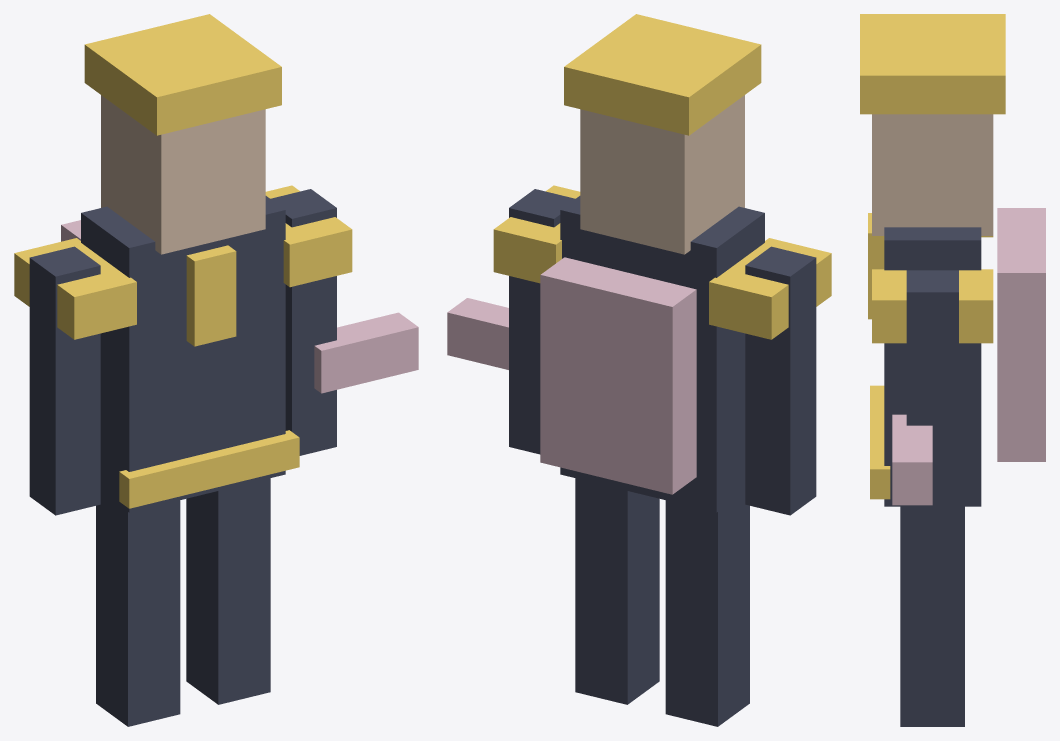
The model's file is 18_nix_deepwell_courier_from_delivery.glb.
The picture shows the model from 3 angles, left to right: view 1: azimuth 30°, elevation 25°; view 2: azimuth 150°, elevation 25°; view 3: azimuth 270°, elevation 25°; orthographic projection.
Parts seen in each view (by area): view 1: Nix Deepwell, Courier from Delivery; view 2: Nix Deepwell, Courier from Delivery; view 3: Nix Deepwell, Courier from Delivery.
Part boxes in pixels (<box>): Nix Deepwell, Courier from Delivery: <box>14,14,418,726</box>; Nix Deepwell, Courier from Delivery: <box>447,14,831,726</box>; Nix Deepwell, Courier from Delivery: <box>860,14,1045,726</box>.
Size of the model in its own units: 0.9591 by 1.65 by 0.4304.
